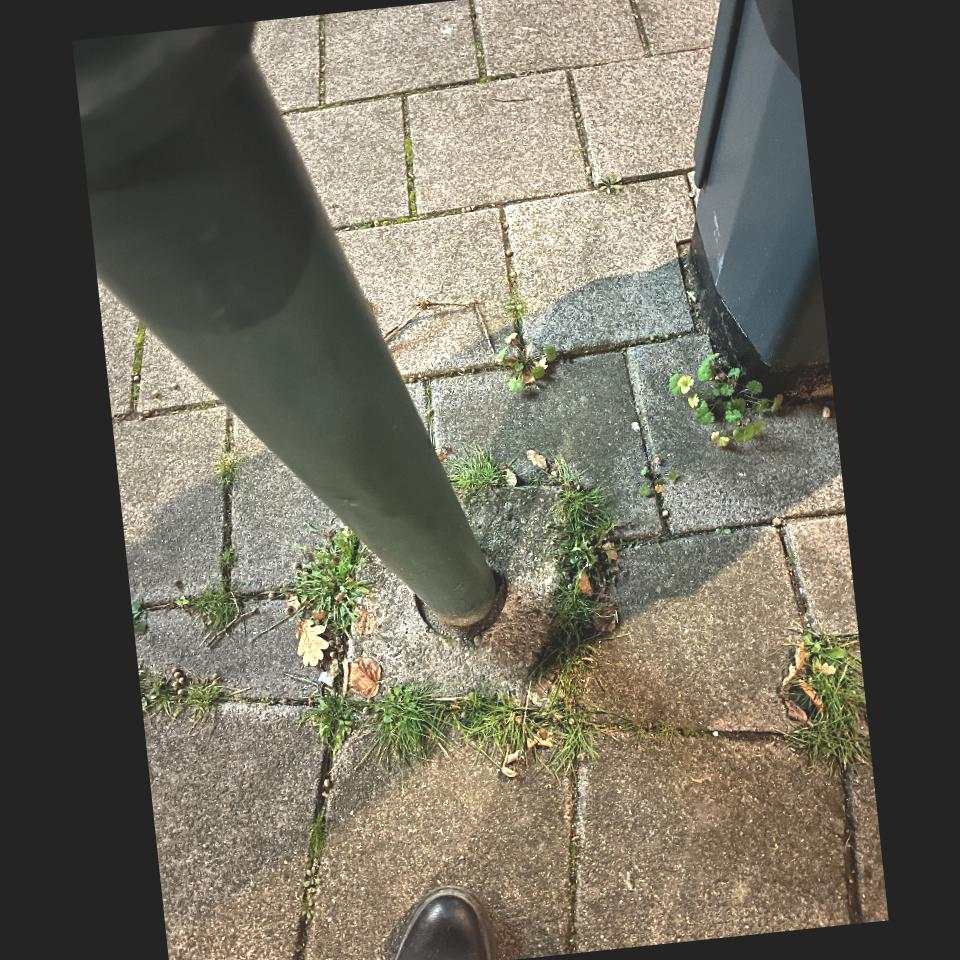weed: (303, 457, 685, 772)
